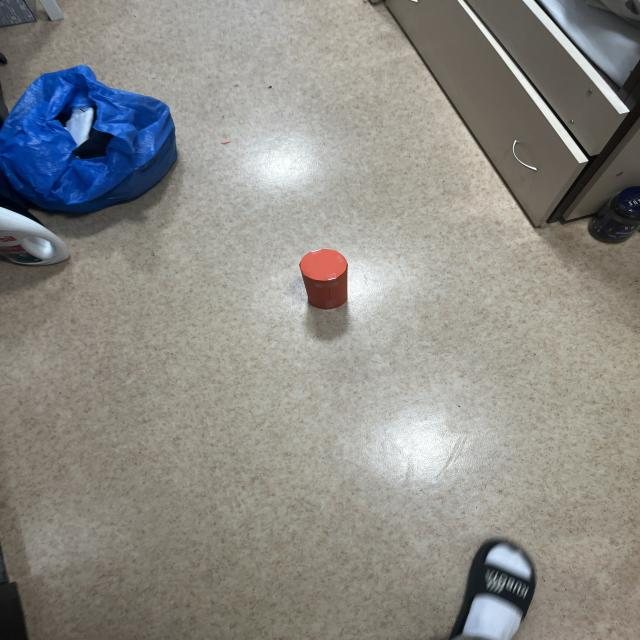przeszkoda: (299, 249, 347, 309)
